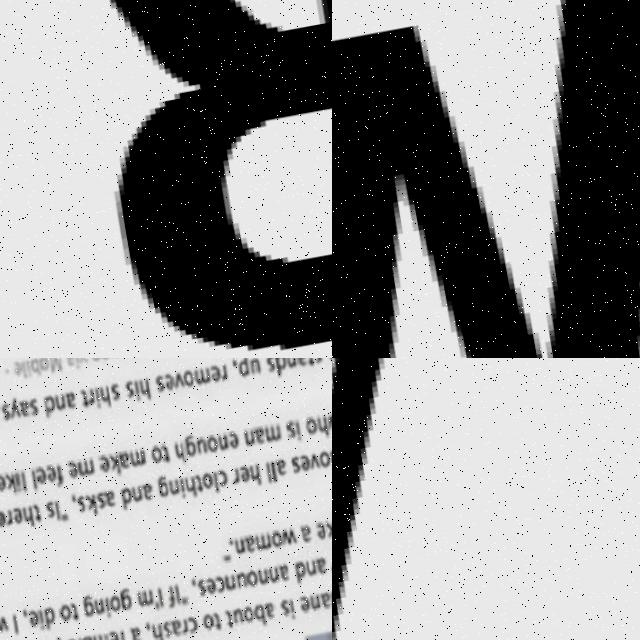1: (332, 358, 613, 640)
A: (277, 562, 293, 582), (299, 523, 314, 543), (243, 533, 258, 553), (141, 480, 156, 500), (315, 556, 329, 575), (254, 426, 268, 445), (265, 600, 278, 619), (170, 617, 183, 636), (274, 458, 287, 477), (104, 489, 117, 508), (119, 451, 132, 470), (17, 398, 30, 417), (128, 624, 143, 640), (320, 589, 332, 608), (65, 390, 77, 409), (294, 358, 310, 366), (82, 632, 95, 640), (64, 358, 74, 366)
B: (252, 602, 268, 628), (29, 358, 40, 377)
C: (215, 468, 229, 487), (187, 615, 200, 634), (214, 575, 227, 594)
D: (43, 394, 58, 418), (294, 560, 309, 583), (120, 486, 134, 510), (44, 607, 58, 630), (274, 358, 288, 376)
E: (28, 608, 42, 627), (315, 521, 329, 540), (238, 464, 252, 483), (299, 594, 312, 613), (205, 576, 218, 595), (299, 453, 312, 472), (228, 431, 241, 450), (99, 454, 112, 473), (67, 460, 80, 479), (209, 364, 222, 382), (12, 505, 24, 524), (47, 463, 58, 482), (36, 466, 47, 485), (164, 372, 175, 391), (12, 360, 22, 376), (0, 471, 7, 493), (108, 629, 121, 640), (0, 507, 6, 526), (67, 636, 80, 640)
F: (166, 585, 177, 608), (54, 464, 64, 487), (118, 629, 129, 640)
G: (81, 592, 96, 616), (183, 434, 198, 458), (156, 474, 171, 497), (120, 586, 134, 610)
H: (185, 475, 199, 499), (173, 441, 187, 464), (249, 465, 263, 487), (316, 416, 330, 438), (139, 378, 151, 402), (22, 506, 35, 527), (99, 386, 112, 407), (152, 623, 164, 640)
I: (287, 598, 298, 620), (103, 594, 113, 618), (173, 583, 183, 605), (15, 470, 23, 491), (93, 386, 100, 409), (39, 608, 46, 629), (295, 420, 302, 441), (12, 613, 19, 634), (180, 478, 186, 498), (134, 381, 140, 401), (158, 588, 164, 608), (25, 360, 31, 378), (55, 501, 61, 519), (73, 358, 80, 369)
K: (109, 452, 121, 476), (5, 471, 17, 495), (86, 493, 98, 514), (325, 520, 332, 544)
L: (265, 462, 273, 485), (212, 471, 220, 493), (271, 460, 278, 483), (32, 469, 39, 492), (21, 470, 28, 492), (21, 360, 27, 379), (329, 592, 332, 613)
M: (193, 367, 213, 387), (128, 448, 147, 468), (263, 424, 282, 443), (254, 531, 272, 551), (78, 457, 96, 477), (138, 589, 156, 608), (47, 358, 64, 372), (92, 630, 110, 640)
N: (332, 0, 640, 358), (217, 433, 231, 451), (54, 392, 68, 410), (305, 558, 318, 577), (243, 427, 256, 446), (309, 593, 322, 611), (267, 565, 280, 583), (258, 566, 271, 584), (225, 574, 238, 592), (94, 597, 107, 615), (234, 536, 247, 554), (169, 479, 181, 496), (131, 486, 143, 503), (284, 358, 298, 368)
O: (58, 602, 74, 622), (181, 368, 196, 388), (304, 416, 319, 435), (149, 445, 164, 464), (243, 604, 257, 624), (203, 612, 216, 631), (246, 568, 259, 587), (270, 530, 283, 549), (318, 450, 331, 469), (206, 435, 219, 454), (201, 472, 215, 489), (109, 594, 122, 612), (37, 358, 49, 370)
P: (235, 358, 248, 377), (51, 635, 64, 640)
R: (5, 0, 332, 358), (230, 467, 241, 486), (4, 507, 14, 526), (181, 617, 190, 635), (218, 363, 227, 381), (86, 389, 96, 405)
S: (279, 597, 293, 616), (284, 419, 297, 438), (153, 374, 166, 393), (291, 454, 302, 475), (124, 378, 135, 399), (109, 381, 120, 402), (75, 494, 87, 513), (44, 501, 56, 520), (28, 396, 40, 415), (162, 618, 173, 638), (197, 577, 208, 596), (96, 490, 107, 509), (0, 401, 11, 420), (264, 358, 277, 372), (311, 358, 322, 364)
T: (224, 610, 236, 631), (213, 610, 223, 631), (80, 388, 89, 410), (194, 474, 204, 493), (32, 503, 42, 522), (70, 600, 79, 621), (162, 443, 171, 463), (304, 358, 314, 367)
U: (235, 571, 248, 589), (196, 437, 209, 455), (232, 607, 245, 624), (247, 358, 260, 374)
V: (172, 371, 185, 389), (308, 453, 321, 470), (77, 358, 87, 364)
W: (281, 528, 299, 547), (0, 613, 9, 633), (326, 412, 332, 431)
Y: (8, 397, 21, 419), (329, 548, 332, 570)
